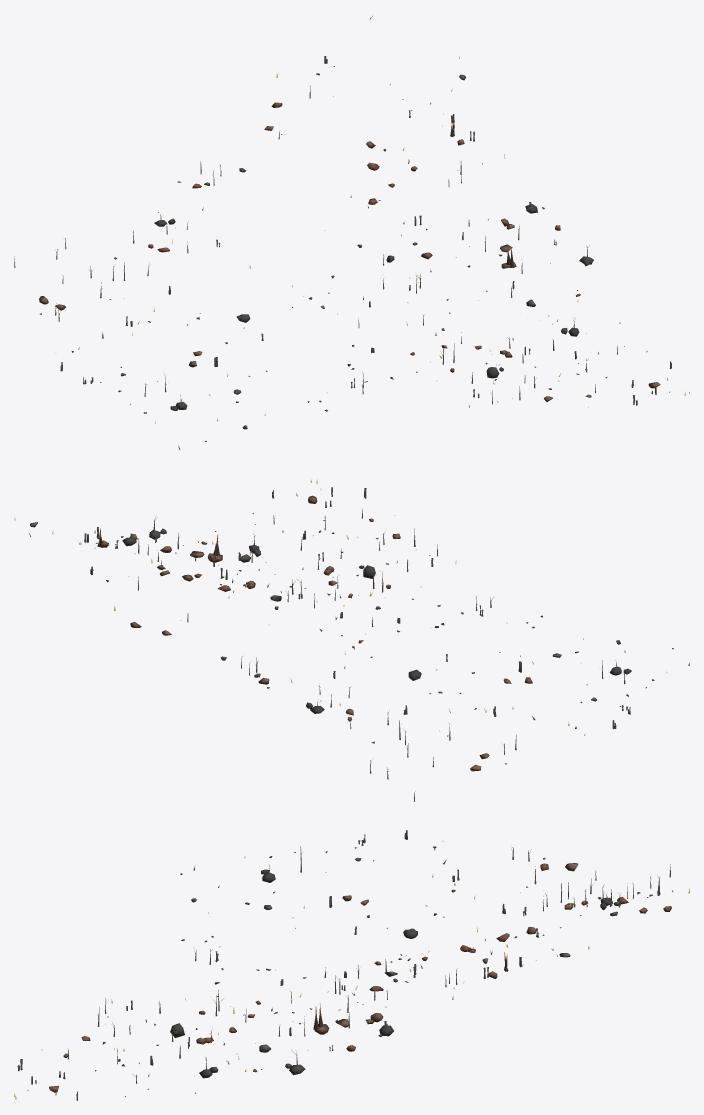
Rendered from ash_land_scatter_c20_29_lod1.glb.
The picture shows the model from 3 angles, top to bottom: view 1: azimuth 30°, elevation 25°; view 2: azimuth 150°, elevation 25°; view 3: azimuth 270°, elevation 25°; orthographic projection. The views are drawn at different scales.
Parts seen in each view (by area): view 1: ash_land_scatter_c20_29_lod1; view 2: ash_land_scatter_c20_29_lod1; view 3: ash_land_scatter_c20_29_lod1.
Boxes of the visible parts, x1=… form: ash_land_scatter_c20_29_lod1: x1=14, y1=16, x2=689, y2=449; ash_land_scatter_c20_29_lod1: x1=14, y1=479, x2=689, y2=801; ash_land_scatter_c20_29_lod1: x1=14, y1=830, x2=689, y2=1100.
Bounding box in the file's own units: 239 × 85.41 × 255.
